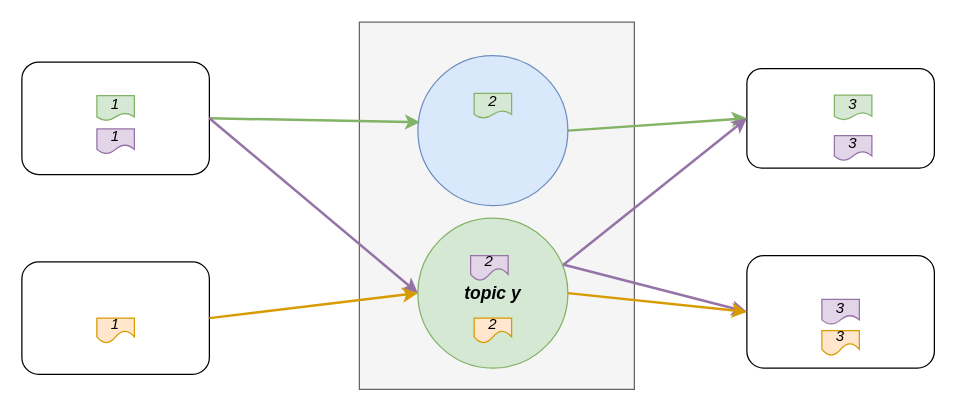
The diagram is 956 pixels wide and 411 high, and some of its shapes have lost their labels. Each missing label, with the box of its shape:
Application x: (21, 61, 209, 174)
Application y: (21, 261, 209, 374)
Application z: (746, 254, 934, 368)
BizTalk: (746, 67, 934, 168)
broker: (358, 21, 634, 389)
topic x: (417, 54, 568, 206)
